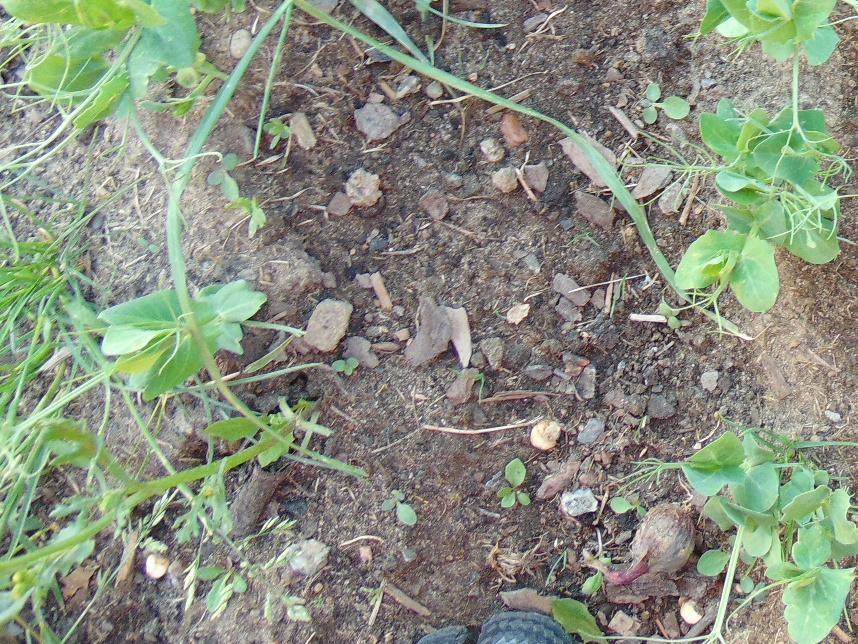crop: (641, 422, 858, 644), (632, 105, 849, 327), (641, 1, 858, 221), (1, 1, 208, 185), (47, 270, 270, 409)
weed: (1, 305, 88, 513), (1, 522, 94, 644), (1, 220, 85, 308), (206, 400, 314, 468), (33, 415, 141, 483), (549, 590, 623, 644), (197, 558, 246, 613), (643, 77, 692, 123), (201, 152, 250, 198), (493, 458, 533, 509), (698, 533, 738, 584), (381, 488, 418, 528), (610, 490, 647, 516), (331, 355, 360, 375)
